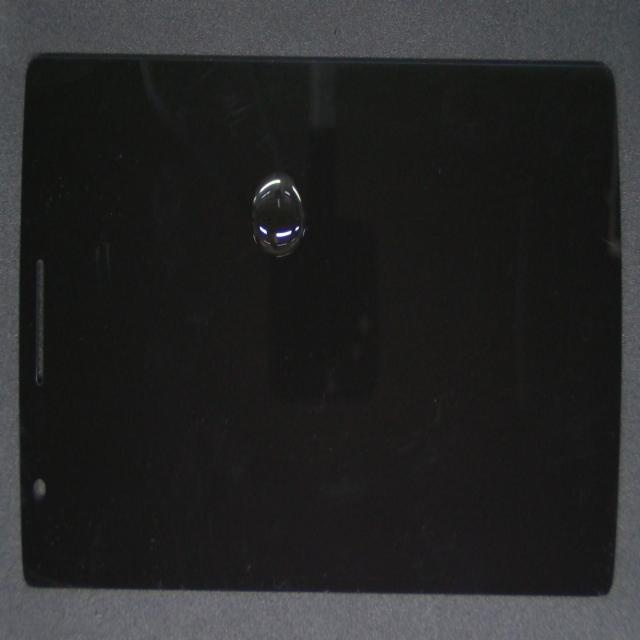oil: (123, 77, 382, 326)
